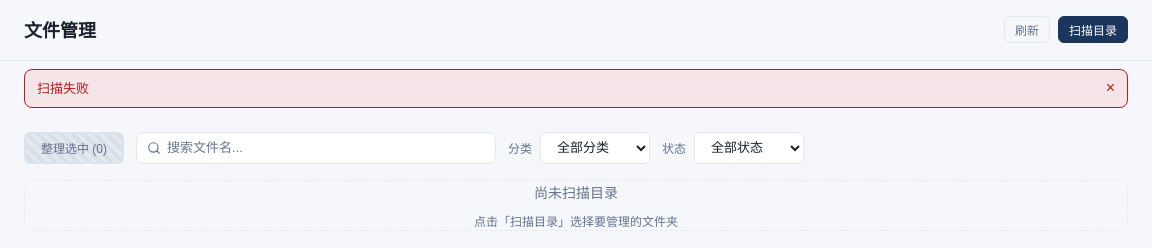
Test: FilesPage › dismisses error alert
Expected: the message shows "扫描失败", [37,78,89,97]
Click the button named "关闭错误提示".
click(1110, 88)  # box [1106,80,1115,96]
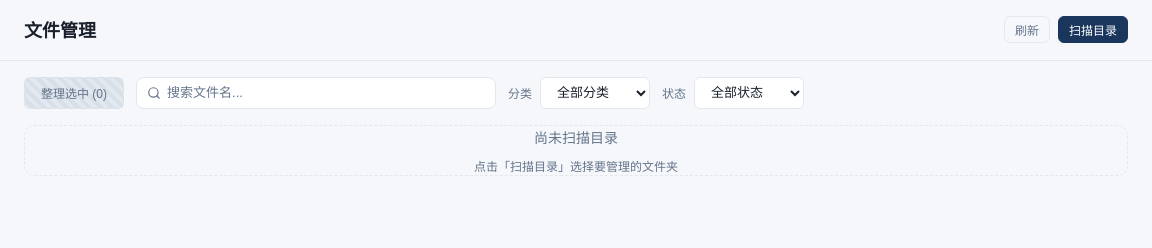
Result: the message "扫描失败 ×" is gone
